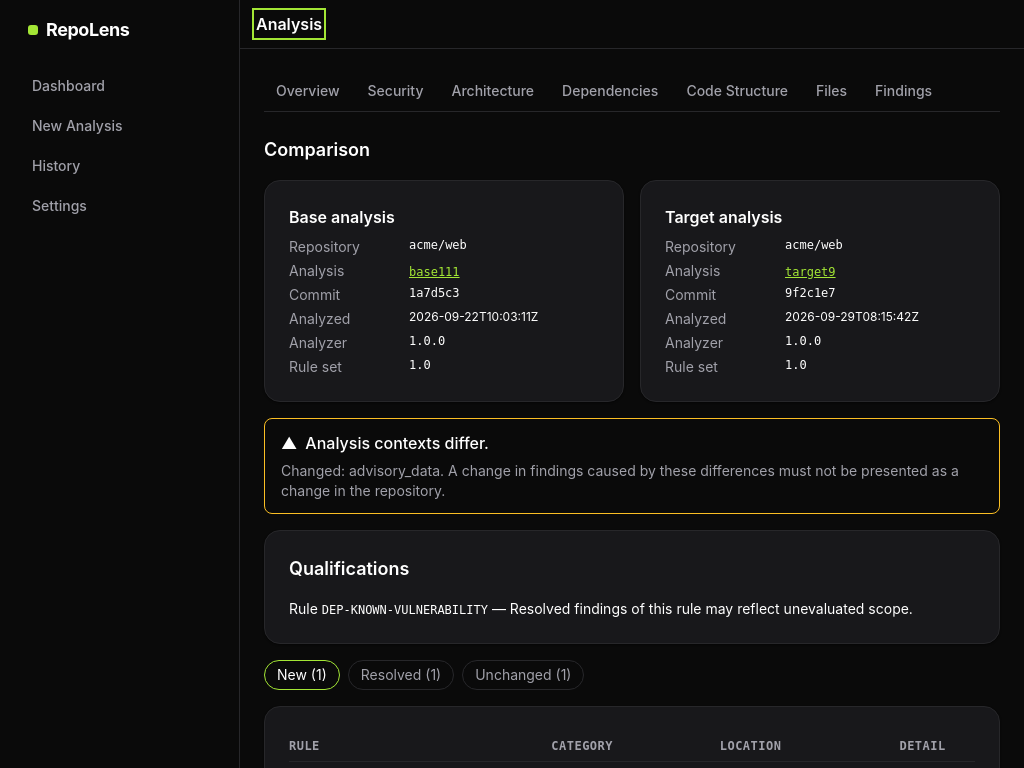
it: Comparison page › renders contexts, differences, lists, and qualified marks
Expected: the heading "Comparison" is shown, top-left (264, 139), bottom-right (370, 160)
Expected: the heading "Base analysis" is shown, top-left (289, 207), bottom-right (395, 227)
Click the button "resolved (1)" at {"x": 401, "y": 675}, box top-left (348, 660), bottom-right (454, 690)
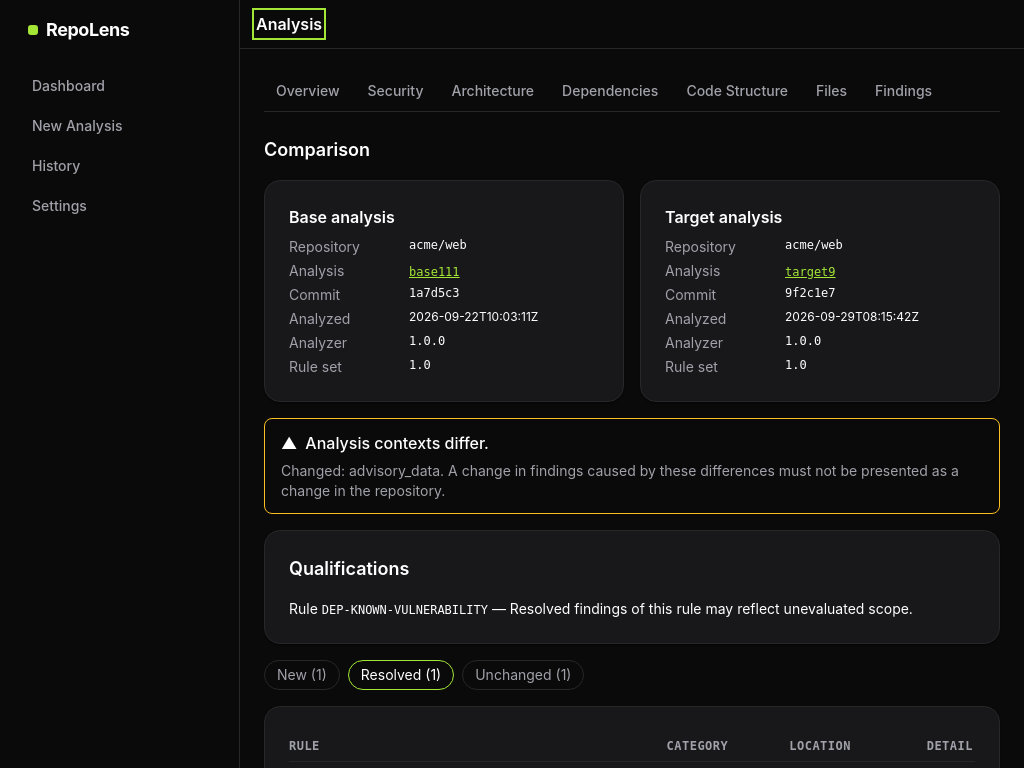
Click the button "unchanged (1)" at {"x": 523, "y": 675}, box top-left (462, 660), bottom-right (584, 690)
(page scrolled)
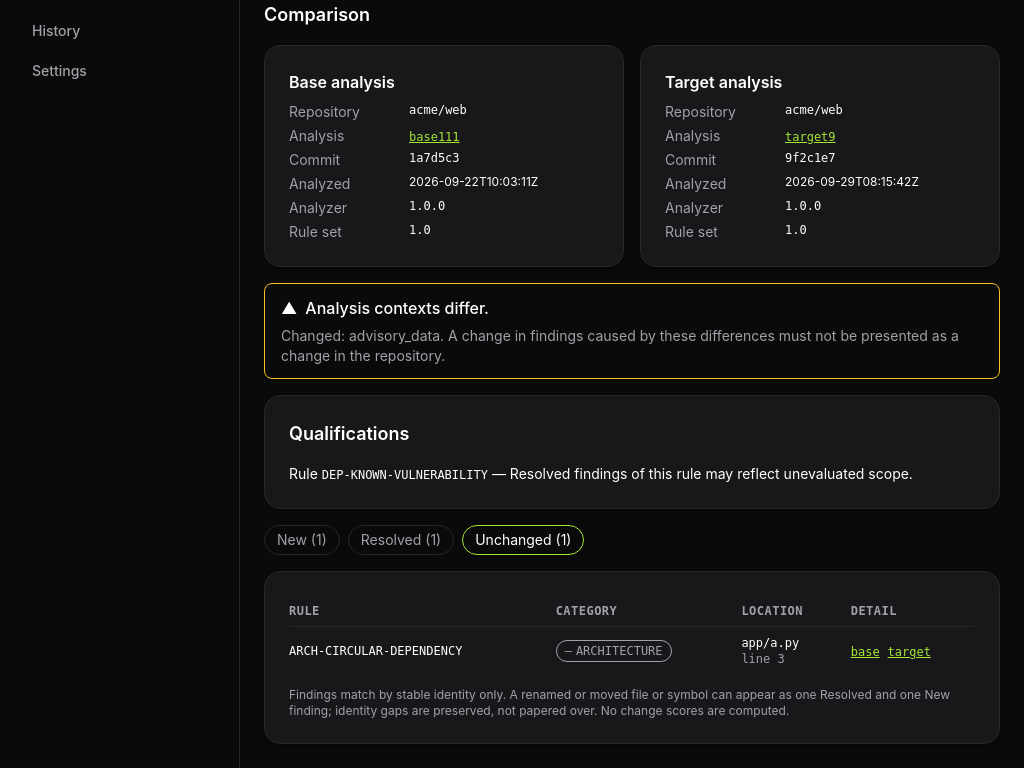
Expected: the text "No change scores are computed" is shown, top-left (289, 687), bottom-right (950, 718)
Expected: the link "base" is shown, top-left (851, 645), bottom-right (880, 659)
Expected: the link "target" is shown, top-left (888, 645), bottom-right (931, 659)
